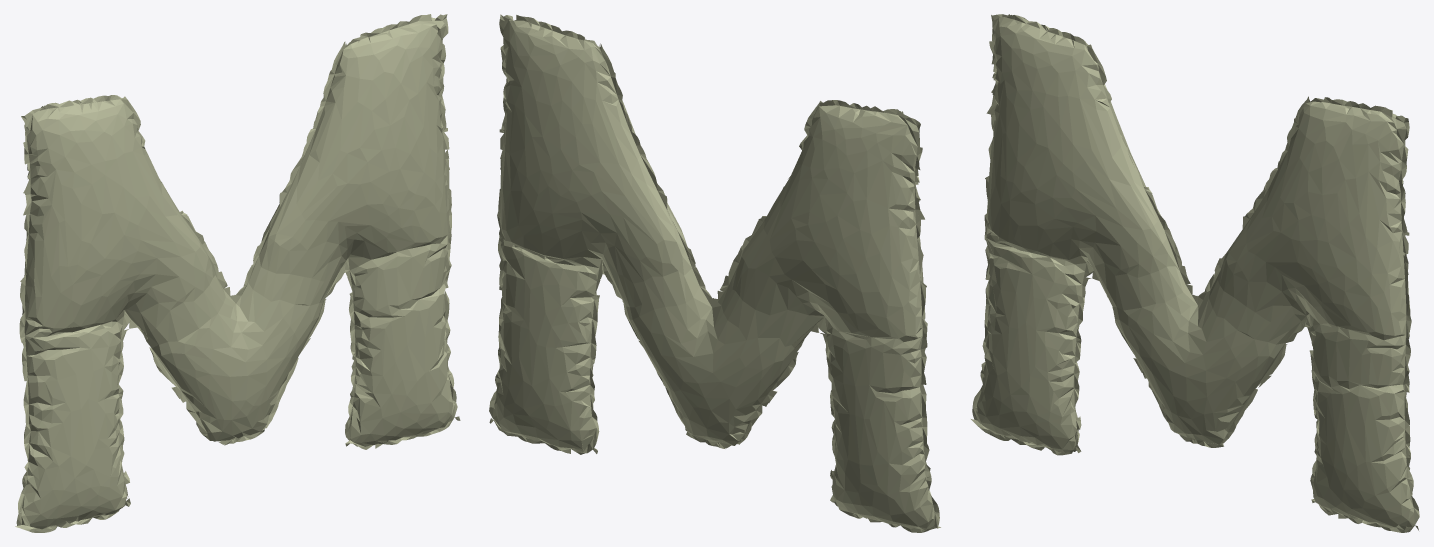
The model's file is tinker.obj.
3 renders of one model, left to right at view 1: azimuth 30°, elevation 25°; view 2: azimuth 150°, elevation 25°; view 3: azimuth 330°, elevation 25°, orthographic.
Visible parts, largest first — view 1: obj_0; view 2: obj_0; view 3: obj_0.
Boxes of the visible parts, bbox=[...] form: obj_0: bbox=[15, 14, 460, 532]; obj_0: bbox=[489, 14, 940, 532]; obj_0: bbox=[971, 14, 1419, 532].
Size of the model in its own units: 16.85 by 15.21 by 2.29.
